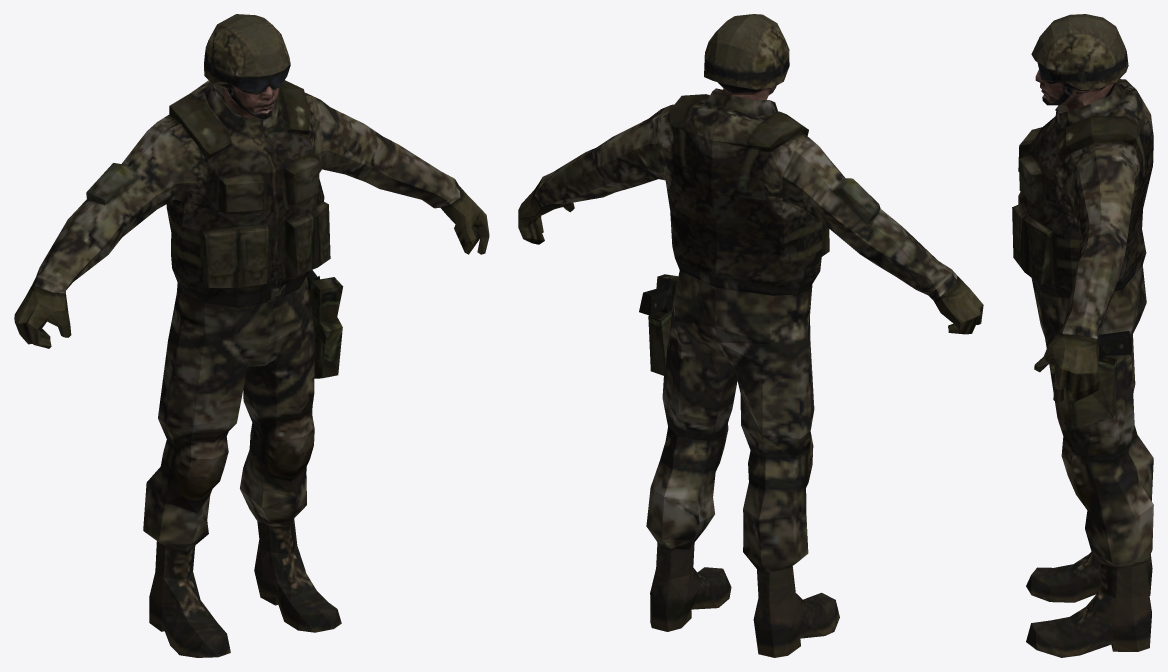
Rendered from ENEMY_Army Soldier.obj.
The picture shows the model from 3 angles, left to right: view 1: azimuth 30°, elevation 25°; view 2: azimuth 150°, elevation 25°; view 3: azimuth 270°, elevation 25°; orthographic projection.
Bounding box in the file's own units: 1.01 × 1.27 × 0.2702.
1 material, 1 textured.
